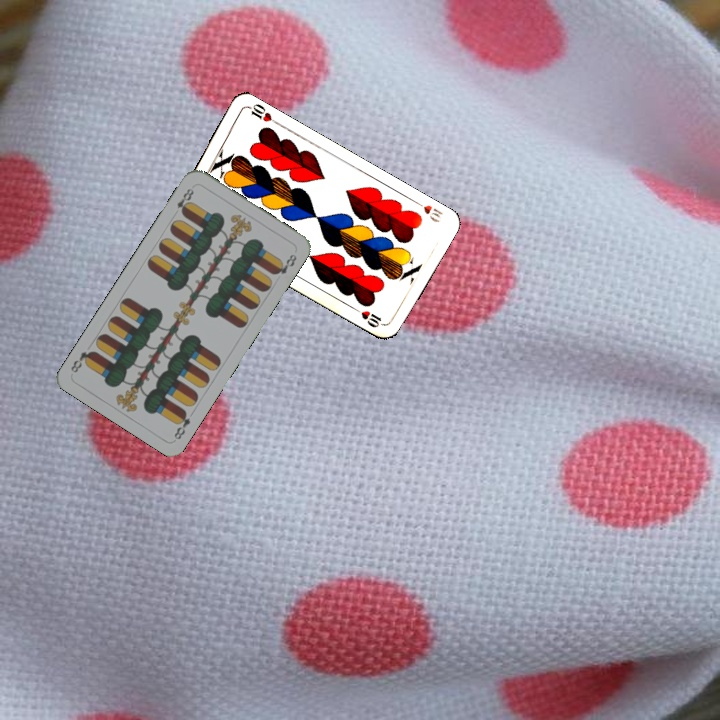E8: (172, 182, 197, 217), (170, 406, 193, 442)
H10: (409, 196, 446, 225)
